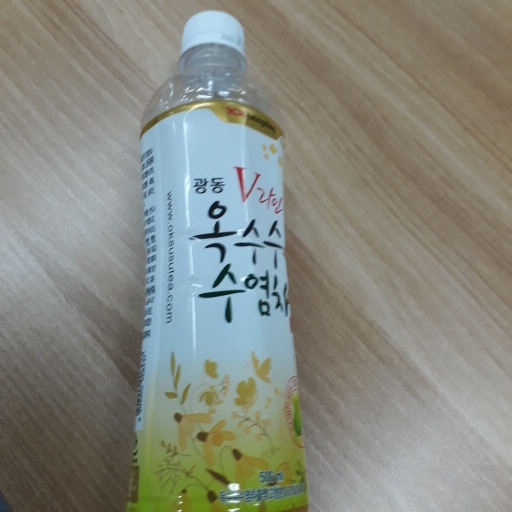Plastic_0: (126, 8, 312, 512)
